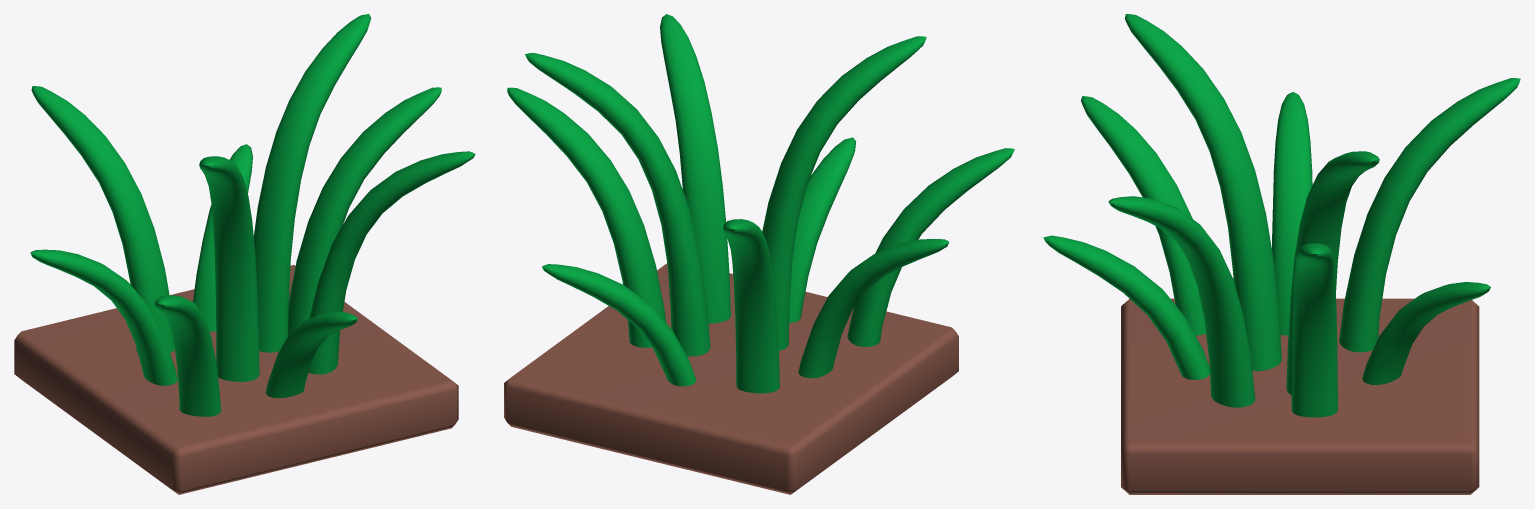
The model's file is Farm_18_Ground_with_Grass_2.glb.
The picture shows the model from 3 angles, left to right: view 1: azimuth 30°, elevation 25°; view 2: azimuth 150°, elevation 25°; view 3: azimuth 270°, elevation 25°; orthographic projection. The views are drawn at different scales.
Parts seen in each view (by area): view 1: Farm_18_Ground_with_Grass_2; view 2: Farm_18_Ground_with_Grass_2; view 3: Farm_18_Ground_with_Grass_2.
Part boxes in pixels (<box>): Farm_18_Ground_with_Grass_2: <box>14,14,475,494</box>; Farm_18_Ground_with_Grass_2: <box>504,14,1014,494</box>; Farm_18_Ground_with_Grass_2: <box>1043,14,1520,494</box>.
Bounding box in the file's own units: 1.31 × 0.9641 × 1.18.
Materials: 1 (1 with a texture image).
